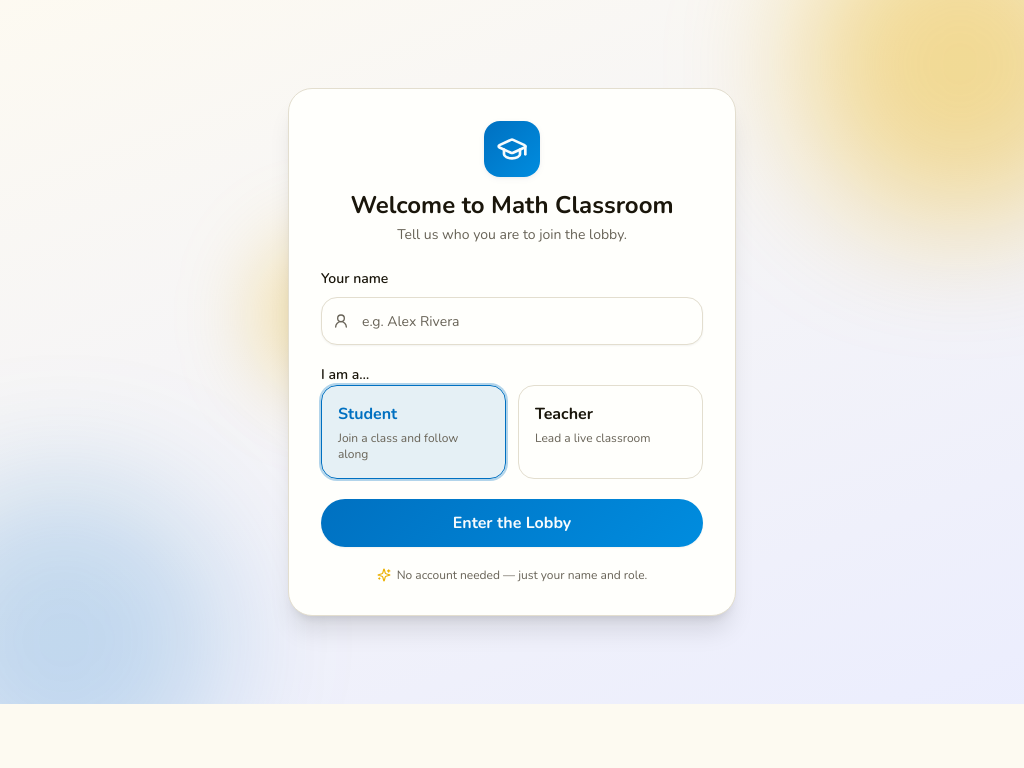
Test: LoginPage › shows an inline error for a name that is too short
The width and height of the screenshot is (1024, 768).
In the field labelled "Your name": point(512, 321) [321, 297, 703, 345], type "A"
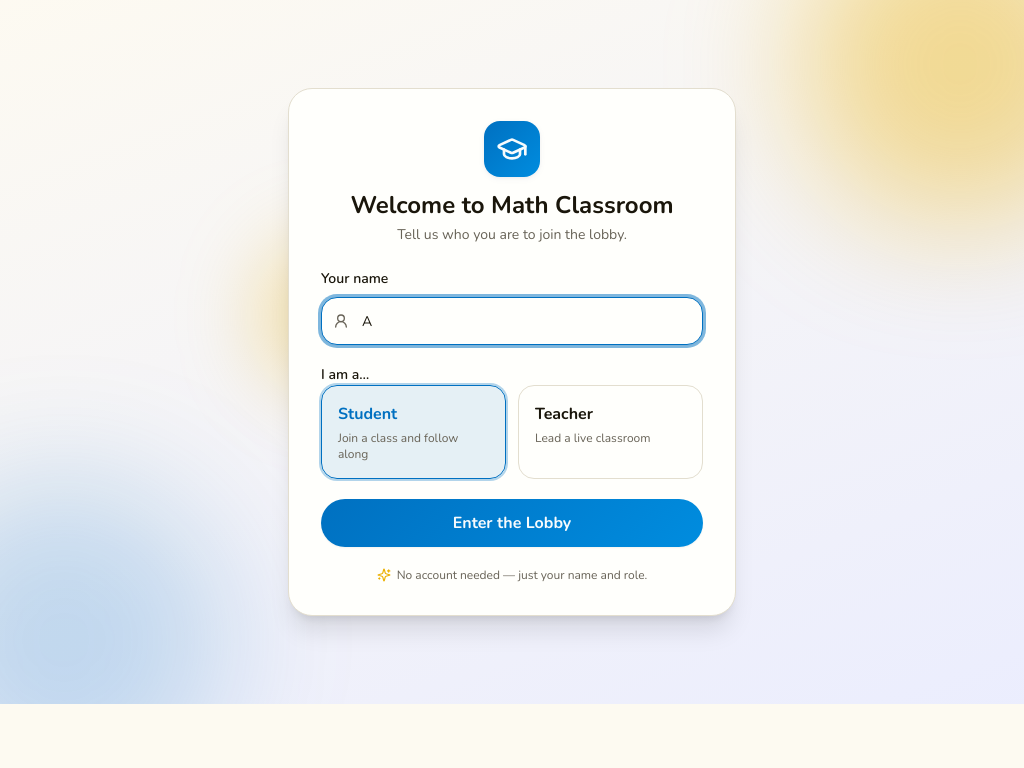
Click the button "Enter the Lobby": point(512, 523) [321, 499, 703, 547]
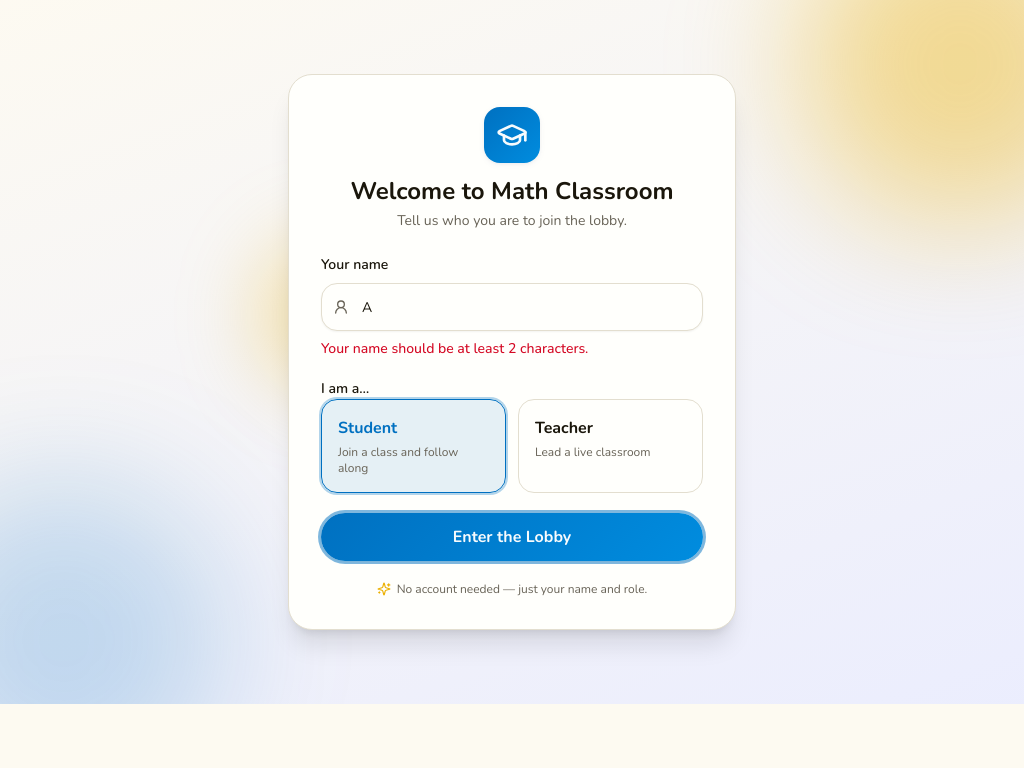
Expected: the text "Your name should be at least 2 characters." is shown, [321, 339, 588, 358]
